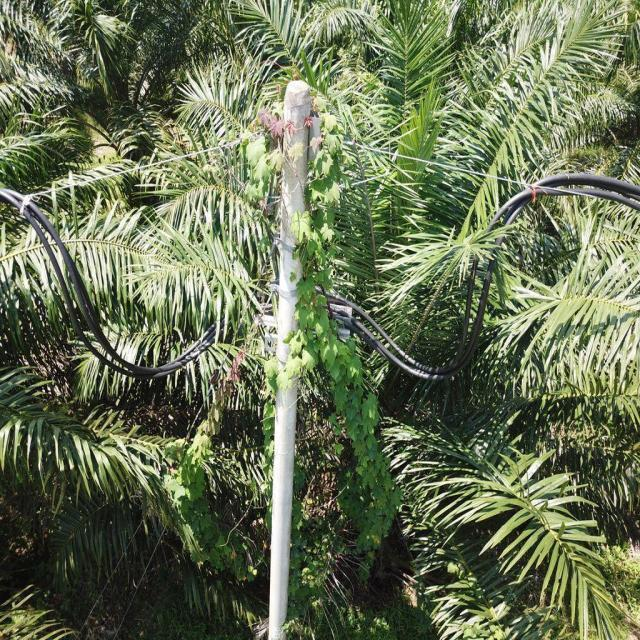critical vegetation: (238, 95, 408, 550)
